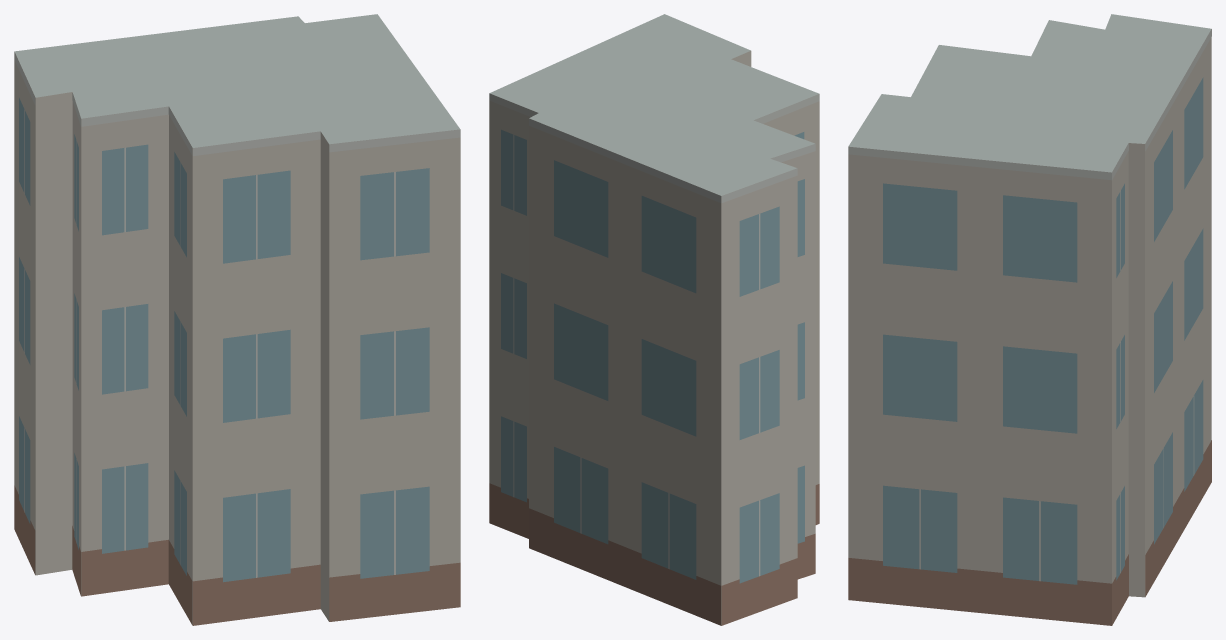
File: survey-upis-33027955.glb
The picture shows the model from 3 angles, left to right: view 1: azimuth 30°, elevation 25°; view 2: azimuth 150°, elevation 25°; view 3: azimuth 270°, elevation 25°; orthographic projection. The views are drawn at different scales.
Parts seen in each view (by area): view 1: survey-upis-33027955.tmp; view 2: survey-upis-33027955.tmp; view 3: survey-upis-33027955.tmp.
Part boxes in pixels (box(x1,y1,x2,y2)): survey-upis-33027955.tmp: box(14, 14, 460, 625); survey-upis-33027955.tmp: box(489, 14, 819, 625); survey-upis-33027955.tmp: box(848, 14, 1211, 625).
Bounding box in the file's own units: 10.73 × 14.3 × 10.4.
